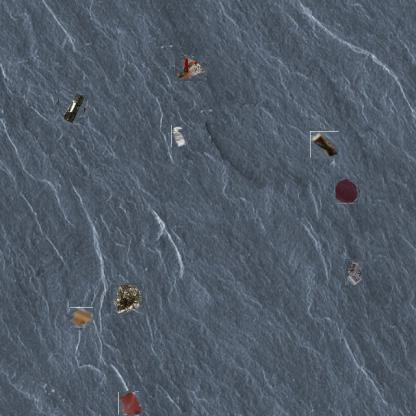dirty: (111, 283, 143, 315), (56, 94, 86, 124), (177, 53, 205, 82), (310, 130, 339, 158), (70, 307, 93, 329), (345, 260, 363, 286), (171, 125, 186, 147)
liquid: (335, 179, 360, 204), (118, 391, 143, 415)
